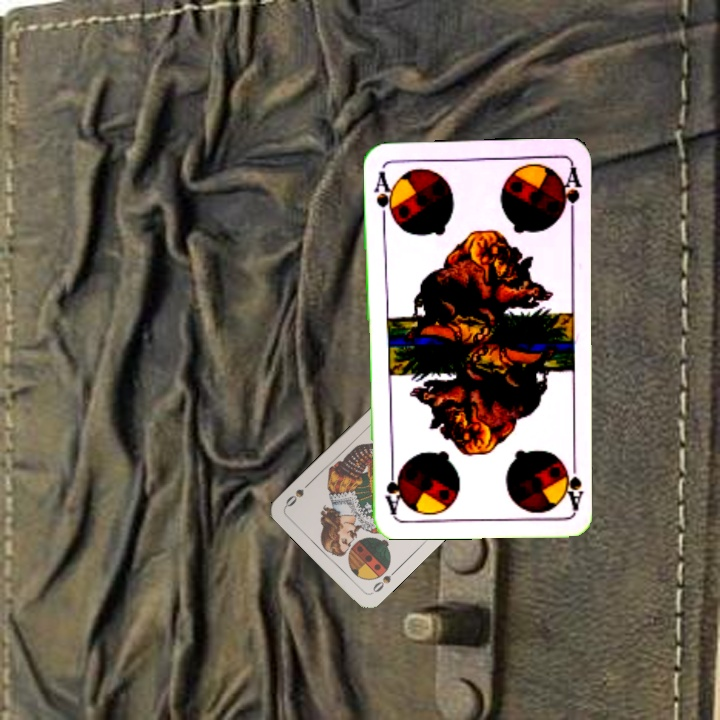SA: (370, 164, 397, 223), (557, 453, 584, 512)
SO: (367, 565, 400, 596)
